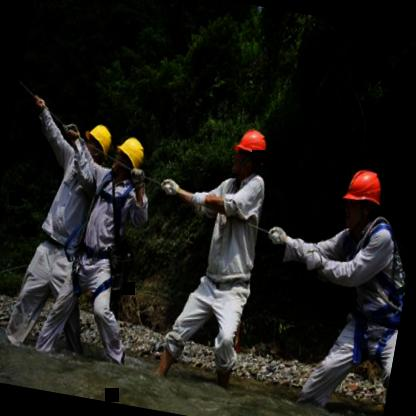helmet: (334, 161, 388, 240), (226, 123, 271, 184), (108, 132, 148, 187), (81, 121, 116, 164)
